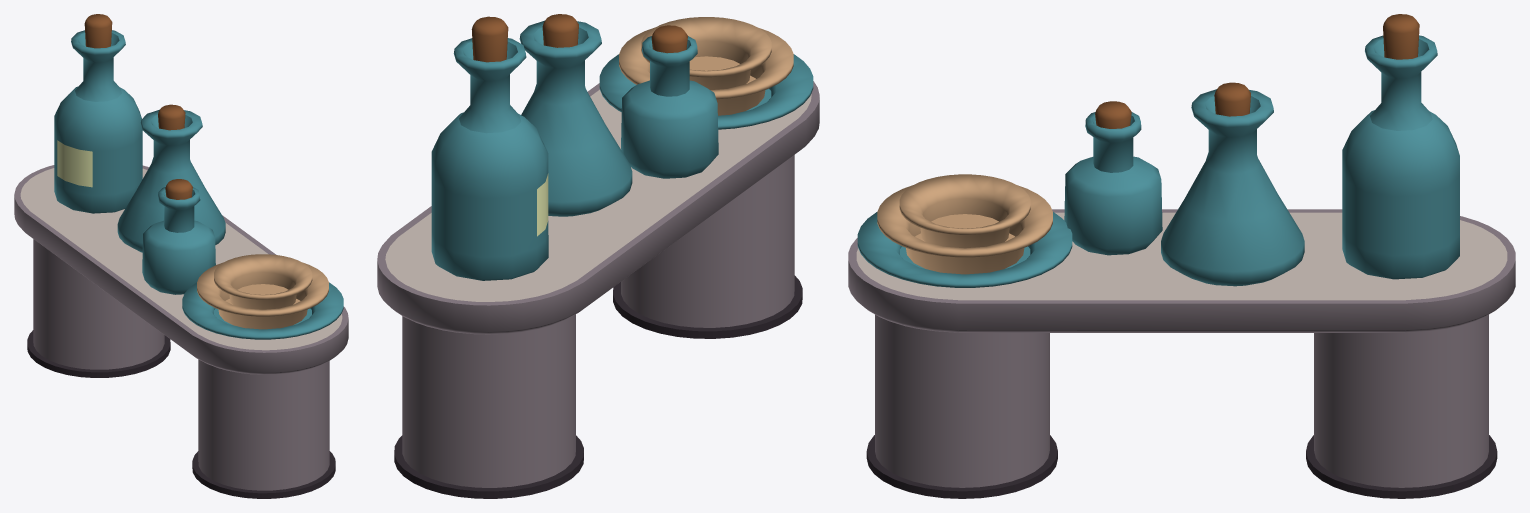
The model's file is GB_178_shop_counter.glb.
3 renders of one model, left to right at view 1: azimuth 30°, elevation 25°; view 2: azimuth 150°, elevation 25°; view 3: azimuth 270°, elevation 25°, orthographic. The views are drawn at different scales.
Parts seen in each view (by area): view 1: shop_counter_178, Bottle03, Bottle04, Bottle05, Plate03, Plate02, Plate; view 2: shop_counter_178, Bottle03, Bottle04, Bottle05, Plate03, Plate, Plate02; view 3: shop_counter_178, Bottle03, Bottle04, Bottle05, Plate03, Plate02, Plate.
Boxes of the visible parts, bbox=[...] form: shop_counter_178: bbox=[14, 165, 348, 498]; Bottle03: bbox=[54, 14, 142, 213]; Bottle04: bbox=[117, 104, 225, 252]; Bottle05: bbox=[142, 179, 215, 294]; Plate03: bbox=[214, 254, 312, 309]; Plate02: bbox=[197, 262, 328, 329]; Plate: bbox=[182, 282, 343, 339]; shop_counter_178: bbox=[377, 81, 819, 498]; Bottle03: bbox=[431, 16, 548, 280]; Bottle04: bbox=[519, 14, 632, 216]; Bottle05: bbox=[621, 25, 718, 178]; Plate03: bbox=[641, 17, 771, 89]; Plate: bbox=[599, 54, 813, 129]; Plate02: bbox=[619, 27, 793, 115]; shop_counter_178: bbox=[848, 209, 1515, 498]; Bottle03: bbox=[1342, 14, 1459, 279]; Bottle04: bbox=[1161, 82, 1304, 286]; Bottle05: bbox=[1064, 101, 1162, 255]; Plate03: bbox=[899, 174, 1030, 248]; Plate02: bbox=[877, 185, 1052, 274]; Plate: bbox=[857, 212, 1072, 287].
Size of the model in its own units: 0.75 by 1.62 by 2.24.
